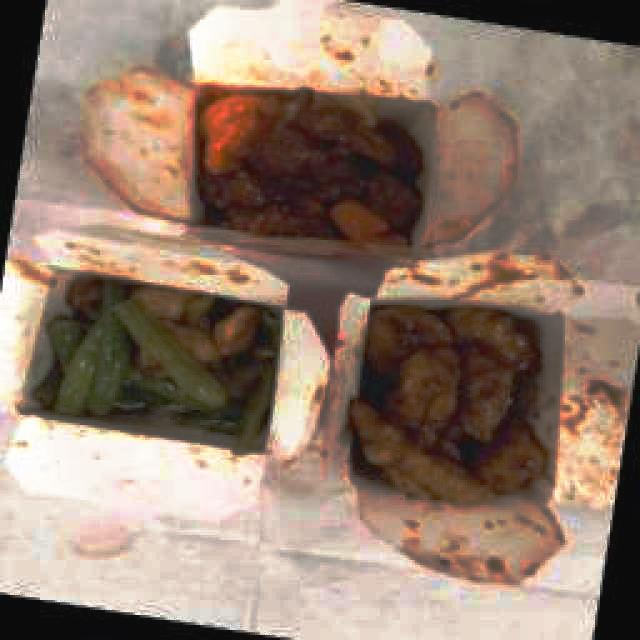Beijing Beef: (193, 86, 422, 242)
Kung Pao Chicken: (347, 301, 550, 504)
String Bean Chicken Breast: (32, 278, 280, 454)
